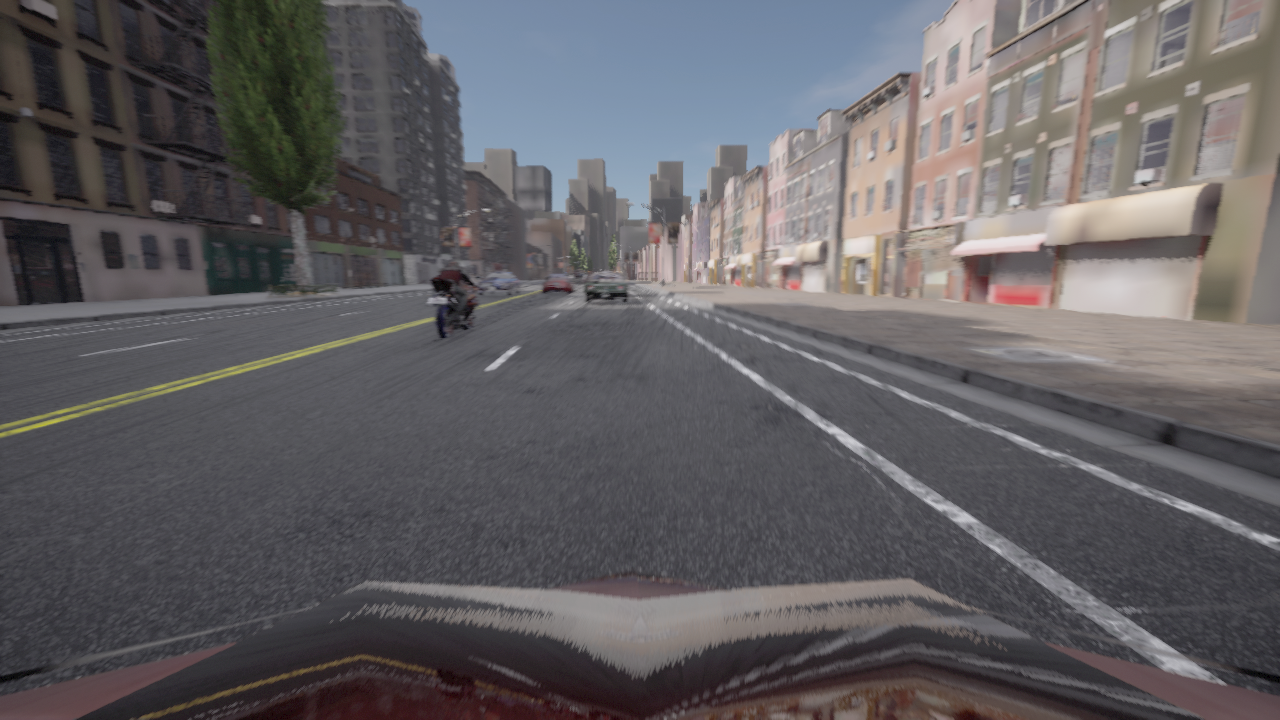cyclist: (0, 569, 1279, 719), (427, 276, 481, 338), (583, 272, 627, 302), (476, 271, 519, 295), (542, 272, 575, 292), (570, 272, 585, 283), (583, 274, 588, 278), (600, 271, 611, 272)
